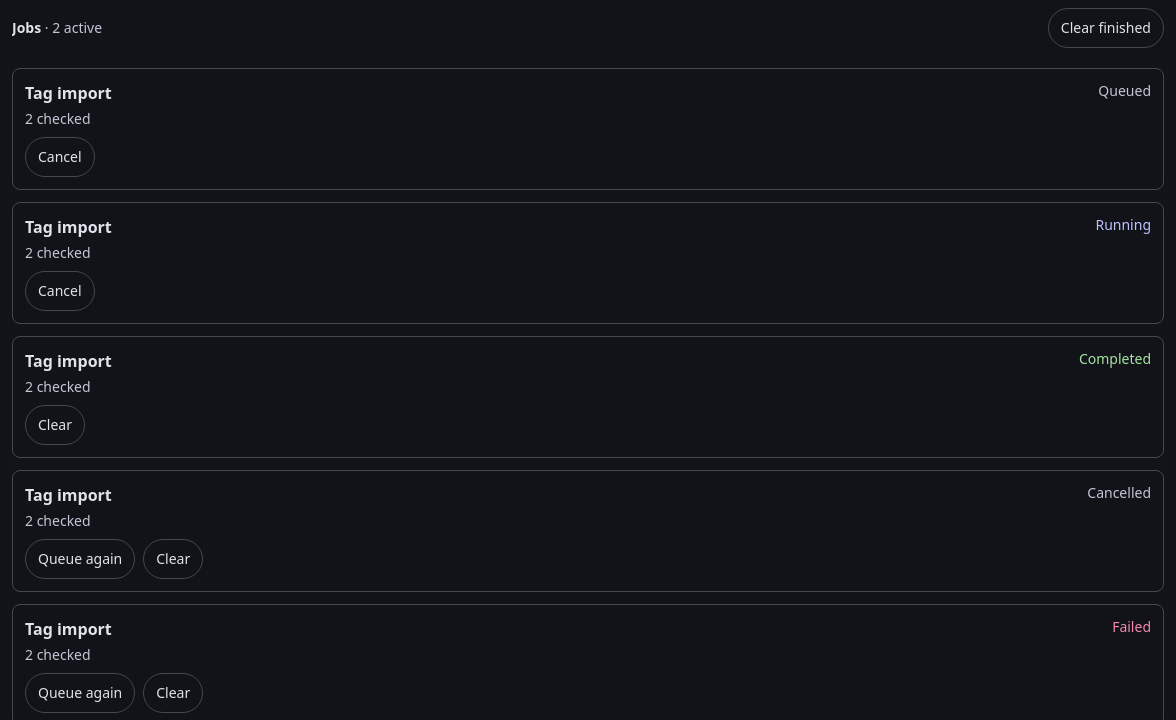
clears every finished entry, retains active work and disables clearing when none remain
Expected: the element named "Tag import, Completed" is shown, [12,336,1164,458]
Click the button "Clear finished" at (1106, 28), box [1048,8,1164,48]
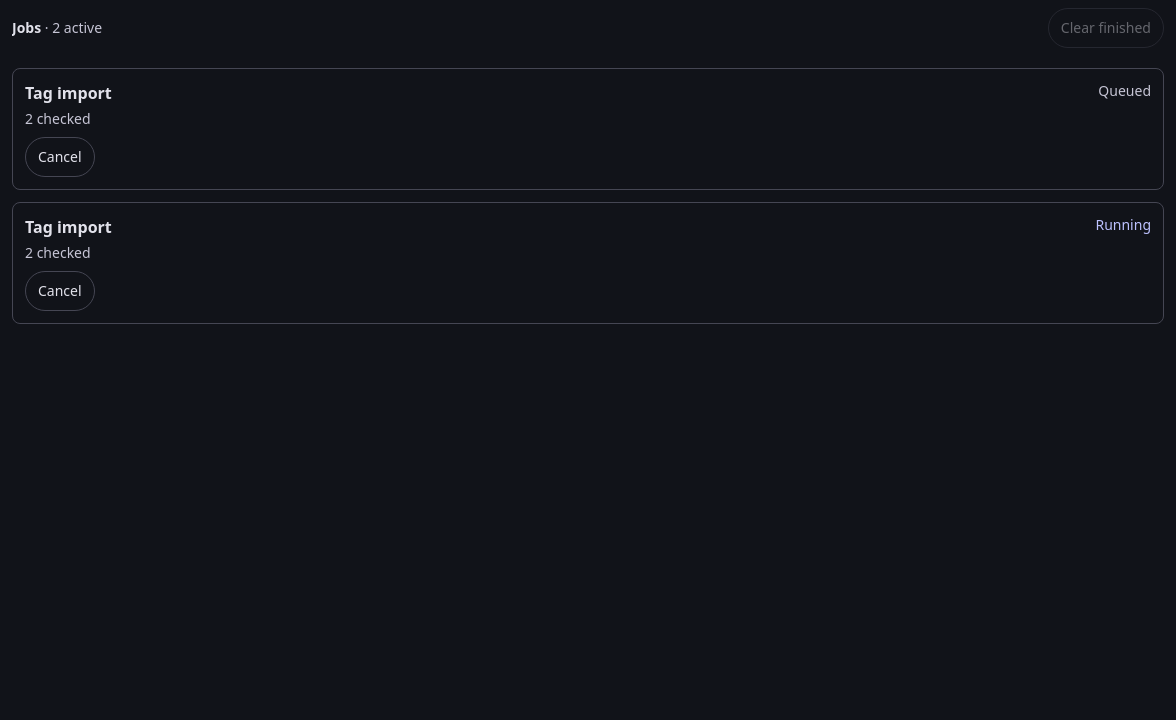
Expected: the element named "Tag import, Queued" is shown, [12,68,1164,190]
Expected: the button "Clear finished" is disabled, [1048,8,1164,48]
